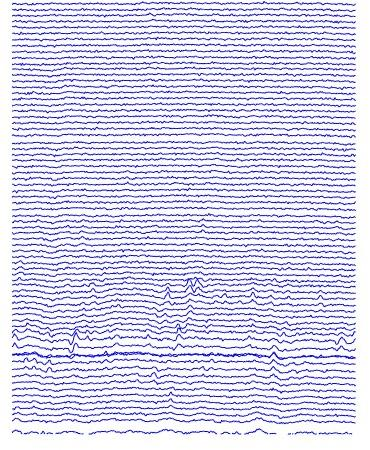defect: (65, 322, 83, 358), (266, 344, 280, 388), (331, 334, 353, 358), (184, 277, 204, 298), (159, 283, 175, 305), (165, 384, 180, 407), (173, 323, 186, 349), (12, 322, 22, 352), (246, 282, 257, 306), (150, 360, 158, 388)
